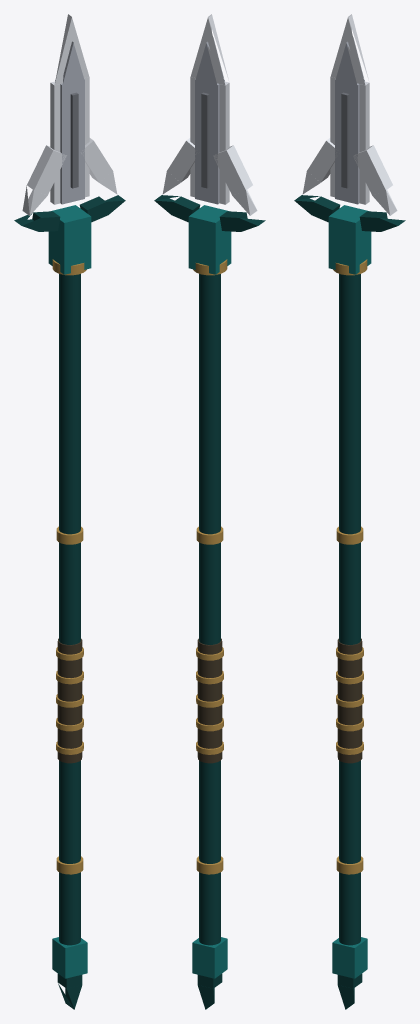
3 renders of one model, left to right at view 1: azimuth 30°, elevation 25°; view 2: azimuth 150°, elevation 25°; view 3: azimuth 330°, elevation 25°, orthographic.
Parts seen in each view (by area): view 1: tidecaller-spear; view 2: tidecaller-spear; view 3: tidecaller-spear.
Boxes of the visible parts, box(x1,y1,x2,y2) form: tidecaller-spear: box(14, 14, 125, 1009); tidecaller-spear: box(154, 14, 265, 1009); tidecaller-spear: box(294, 14, 405, 1009).
Size of the model in its own units: 0.1945 by 1.77 by 0.0568.
